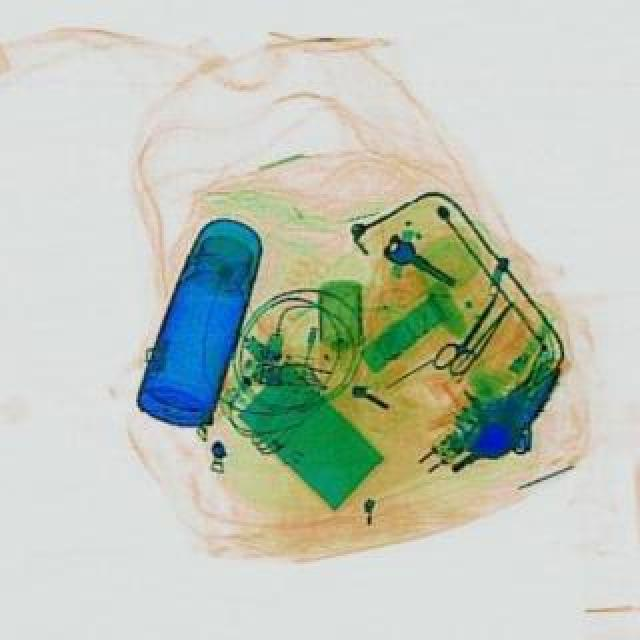pliers: (426, 288, 508, 380)
